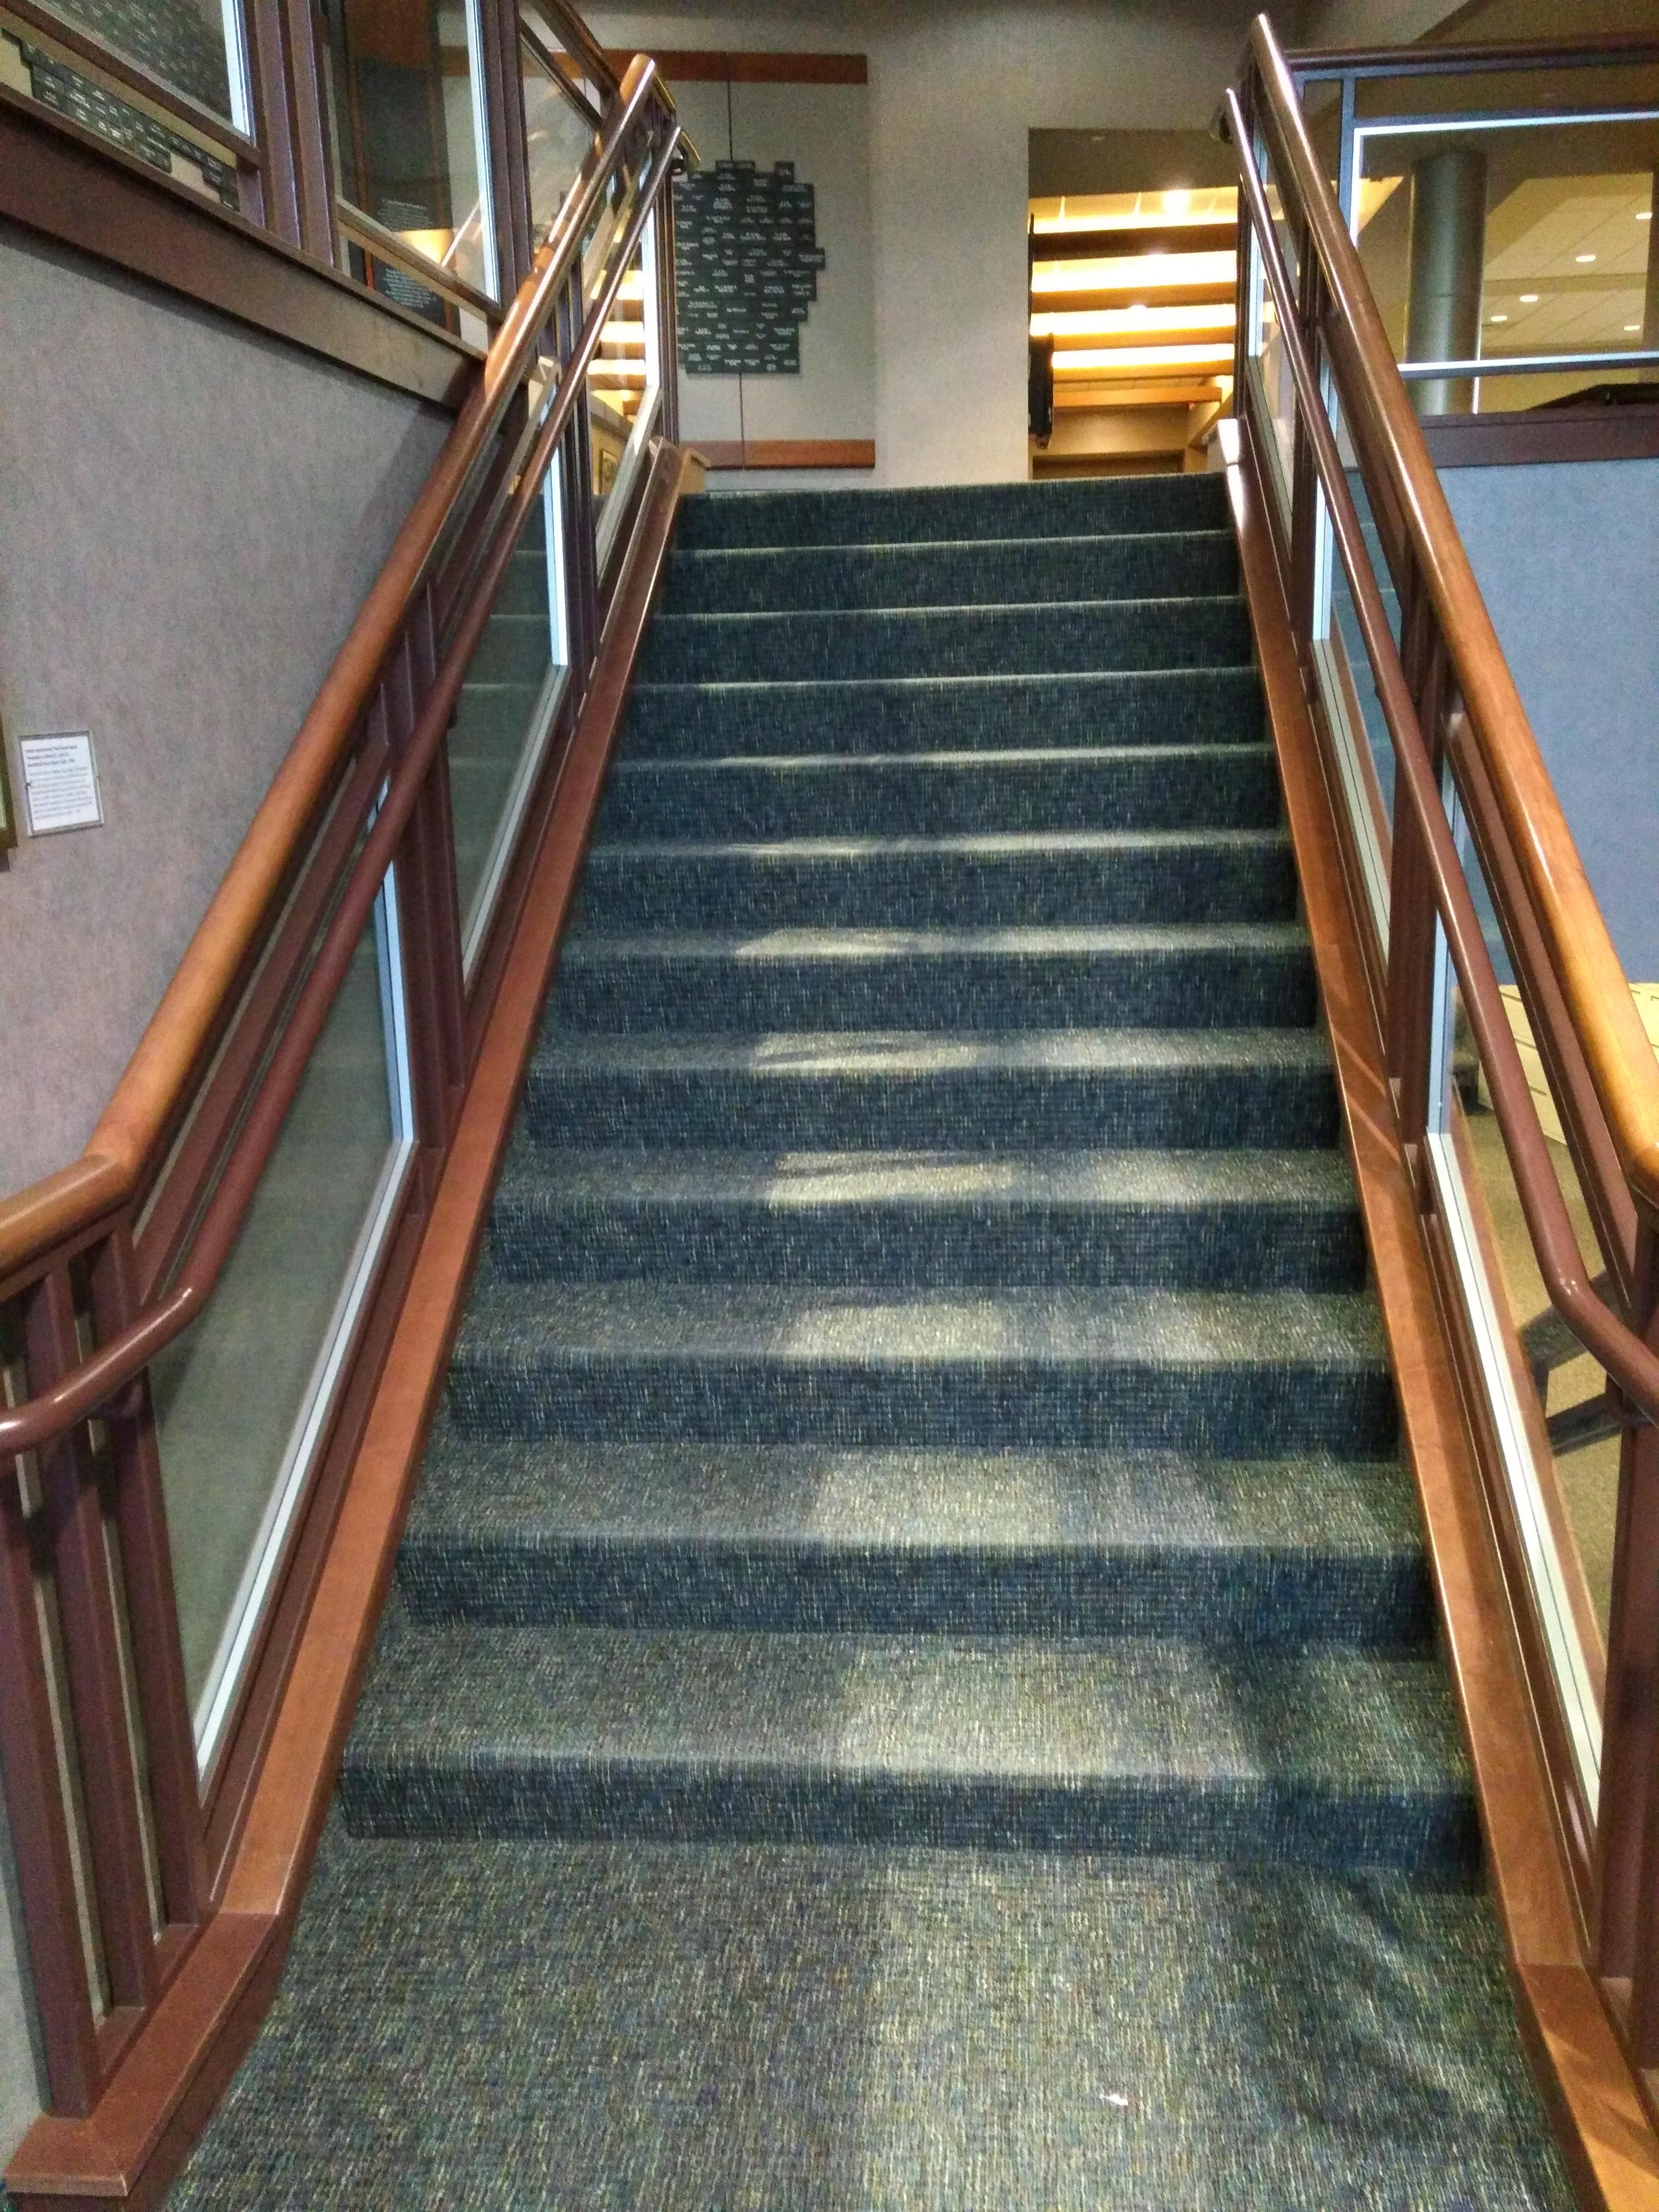stairs_up: (343, 462, 1474, 1897)
